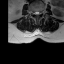CCS_normal: (36, 8, 38, 18)
LFS_normal: (40, 9, 42, 16)
LLS_normal: (38, 9, 40, 17)
RFS_normal: (32, 9, 34, 16)
RLS_normal: (34, 9, 36, 17)
